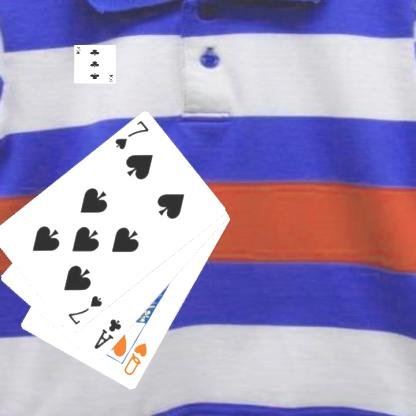7S: (65, 293, 104, 327), (112, 118, 150, 151)
AC: (91, 316, 123, 351)
QH: (121, 340, 148, 378)
